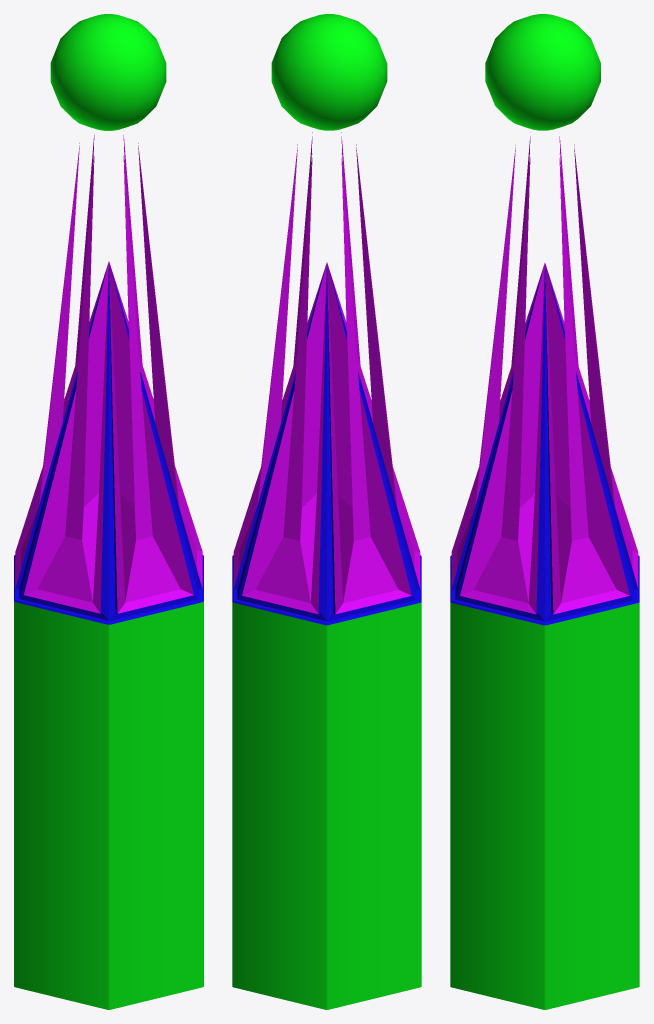
The model's file is TallGreebleV001.FBX.
3 renders of one model, left to right at view 1: azimuth 30°, elevation 25°; view 2: azimuth 150°, elevation 25°; view 3: azimuth 270°, elevation 25°, orthographic.
Visible parts, largest first — view 1: Object118; view 2: Object118; view 3: Object118.
Part boxes in pixels (x1,y1,x2,y2): Object118: (14, 14, 203, 1009); Object118: (232, 14, 421, 1009); Object118: (450, 14, 639, 1009).
Size of the model in its own units: 250 by 218 by 1197.
